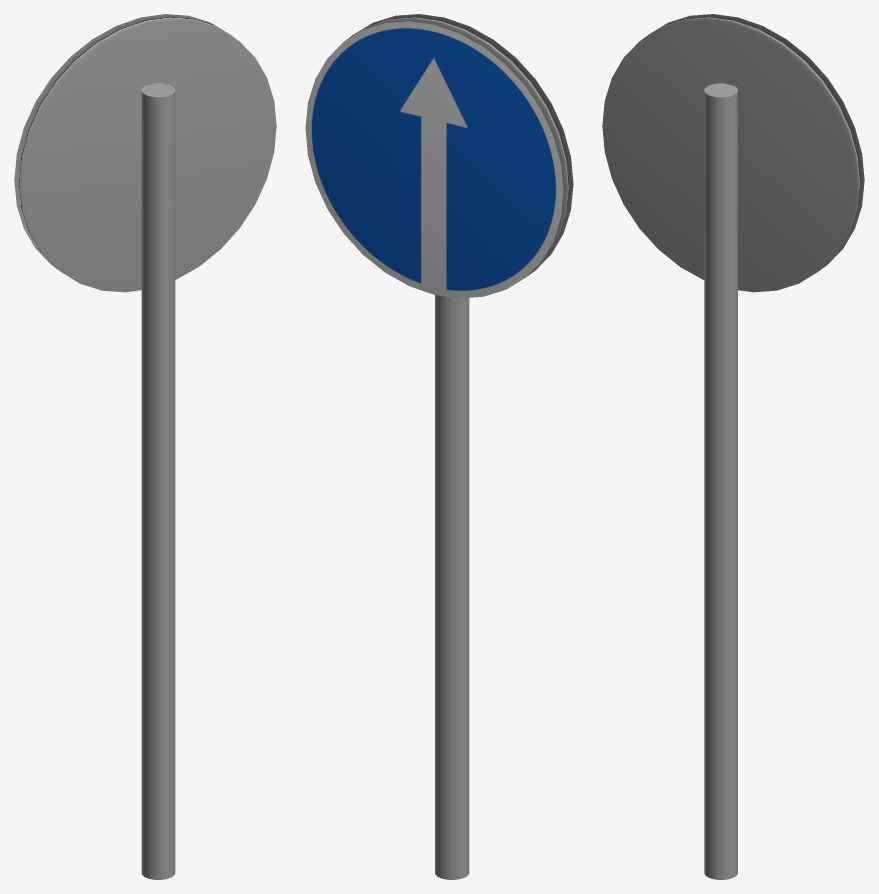
File: ЗнакДвижениеПрямо.fbx
The picture shows the model from 3 angles, left to right: view 1: azimuth 30°, elevation 25°; view 2: azimuth 150°, elevation 25°; view 3: azimuth 330°, elevation 25°; orthographic projection. The views are drawn at different scales.
Parts seen in each view (by area): view 1: Знак; view 2: Знак; view 3: Знак.
Part boxes in pixels (x1,y1,x2,y2): Знак: [14, 14, 276, 879]; Знак: [305, 14, 573, 879]; Знак: [602, 14, 864, 879].
Size of the model in its own units: 64.18 by 361 by 1150.
2 materials, 1 textured.
